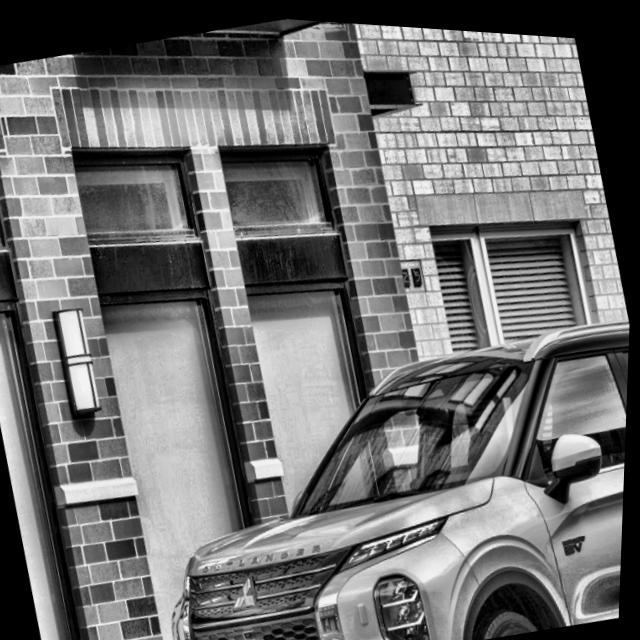light_vehicle: (111, 279, 632, 640)
